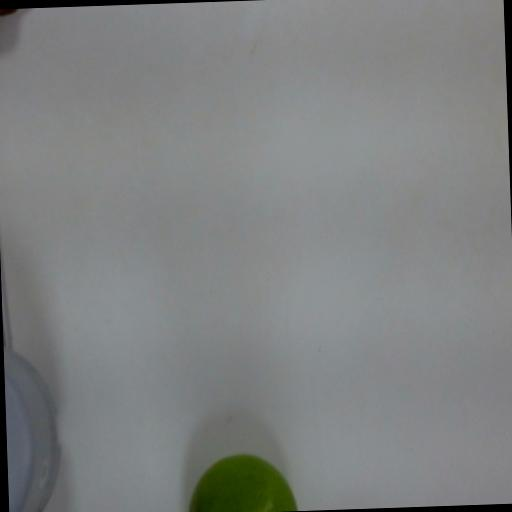Unripe: (176, 449, 301, 512)
